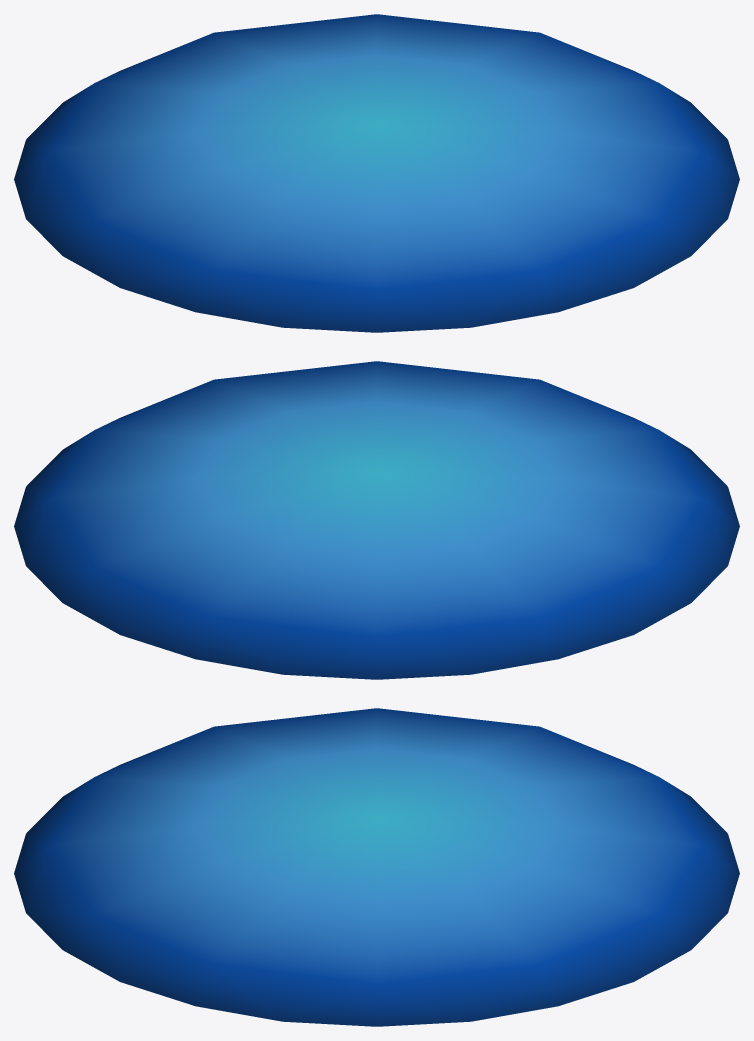
Rendered from roundFloor.glb.
3 views of the same model, one above another, from view 1: azimuth 30°, elevation 25°; view 2: azimuth 150°, elevation 25°; view 3: azimuth 270°, elevation 25° (orthographic).
Visible parts, largest first — view 1: _11_0_node.001; view 2: _11_0_node.001; view 3: _11_0_node.001.
Boxes of the visible parts, x1,y1,x2,y2 form: _11_0_node.001: (14, 14, 739, 332); _11_0_node.001: (14, 361, 739, 679); _11_0_node.001: (14, 708, 739, 1026).
Size of the model in its own units: 16.43 by 1.37 by 16.43.
